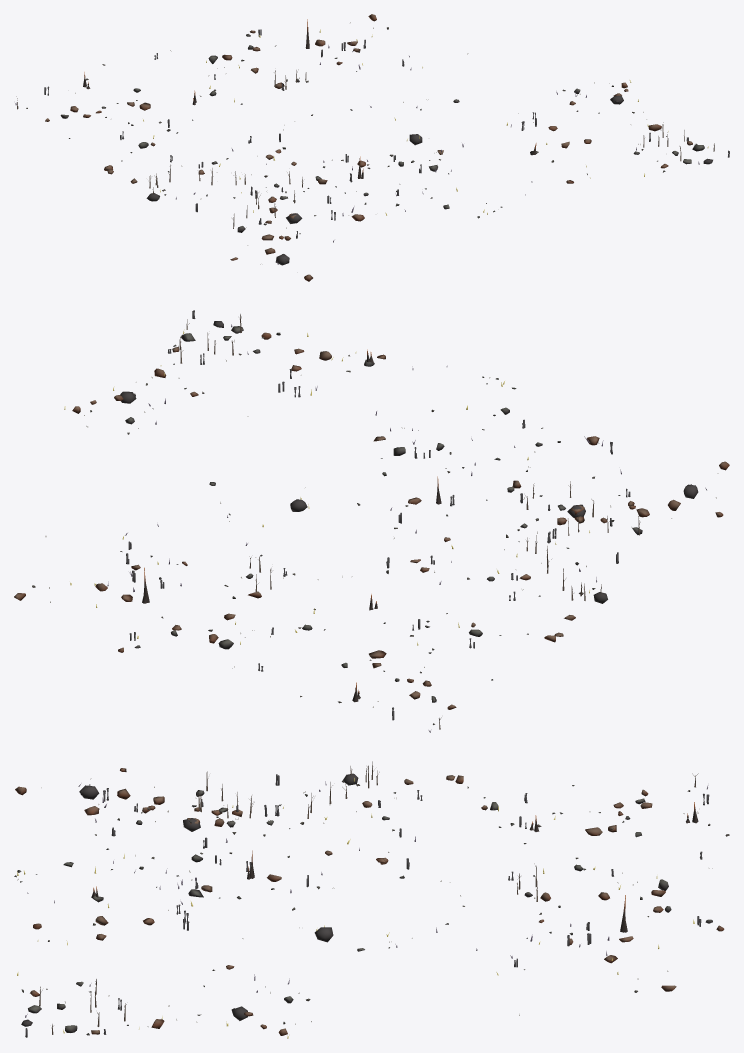
Rendered from ash_land_scatter_c21_30_lod1.glb.
The picture shows the model from 3 angles, top to bottom: view 1: azimuth 30°, elevation 25°; view 2: azimuth 150°, elevation 25°; view 3: azimuth 270°, elevation 25°; orthographic projection. The views are drawn at different scales.
Parts seen in each view (by area): view 1: ash_land_scatter_c21_30_lod1; view 2: ash_land_scatter_c21_30_lod1; view 3: ash_land_scatter_c21_30_lod1.
Boxes of the visible parts, x1,y1,x2,y2 form: ash_land_scatter_c21_30_lod1: [15, 14, 729, 281]; ash_land_scatter_c21_30_lod1: [14, 310, 729, 732]; ash_land_scatter_c21_30_lod1: [14, 761, 729, 1038].
Size of the model in its own units: 248 by 33.88 by 255.
